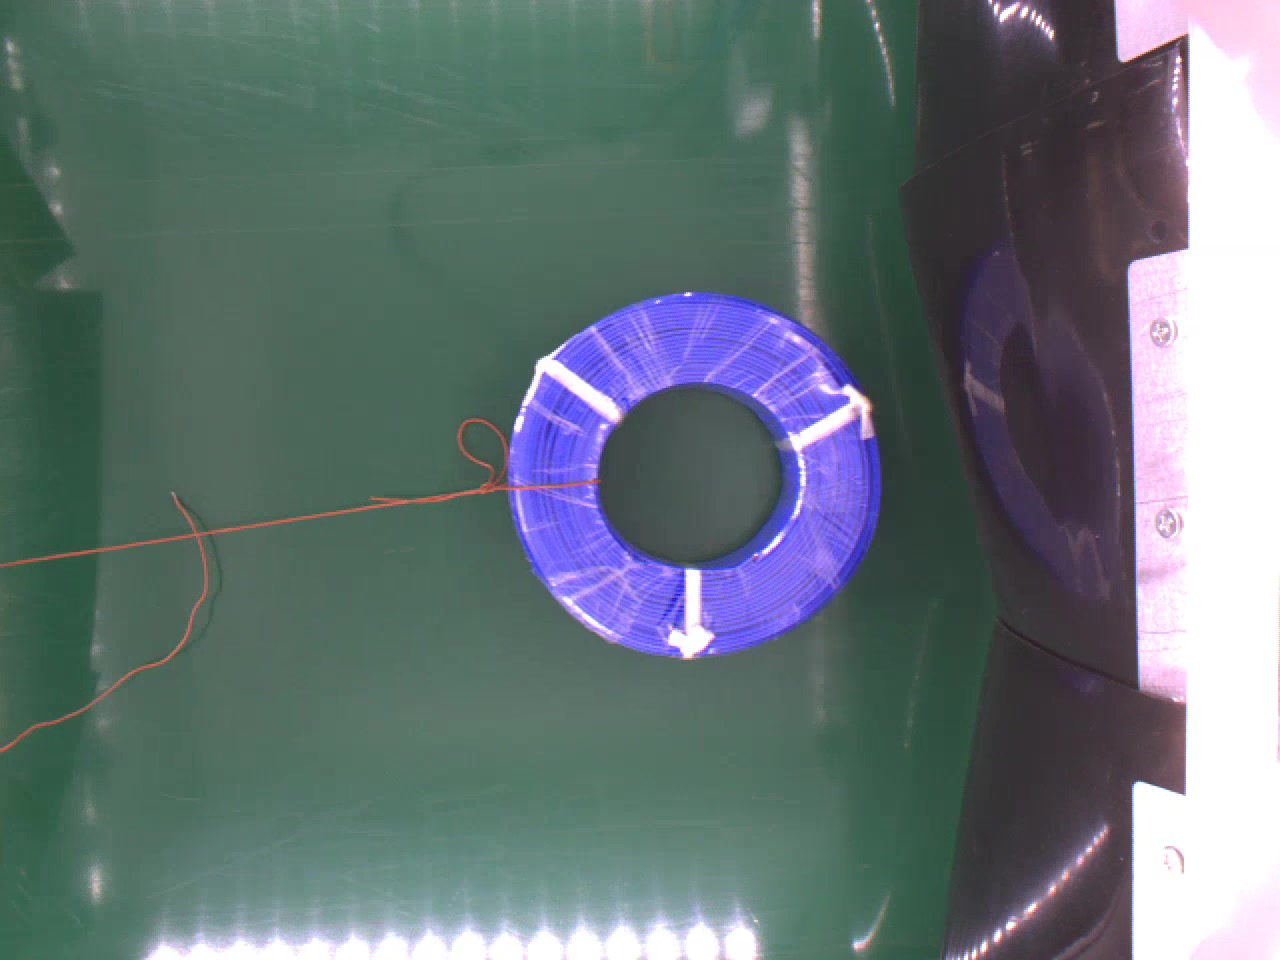blue: (504, 285, 885, 664)
